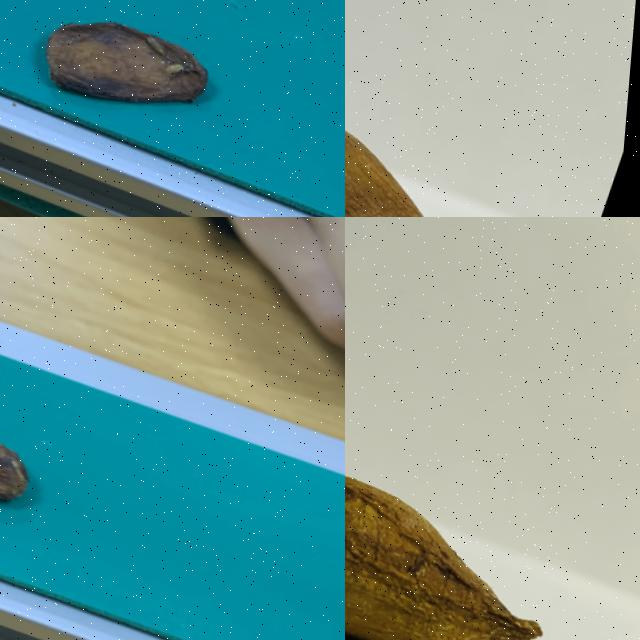Fine_cocoabeans: (345, 364, 639, 639), (345, 0, 575, 216)
Flat_cocoabeans: (0, 0, 343, 198), (0, 354, 122, 567)
